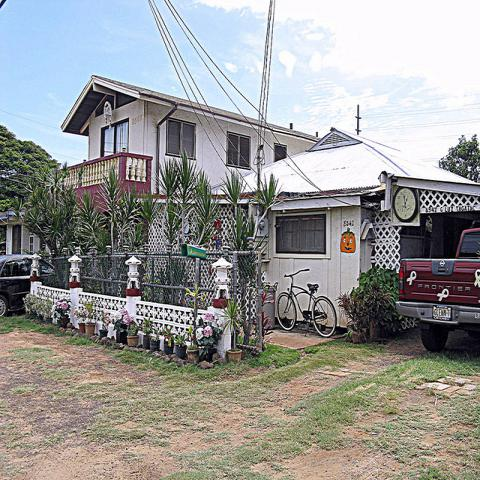car: (0, 254, 54, 315)
truck: (393, 228, 479, 353)
